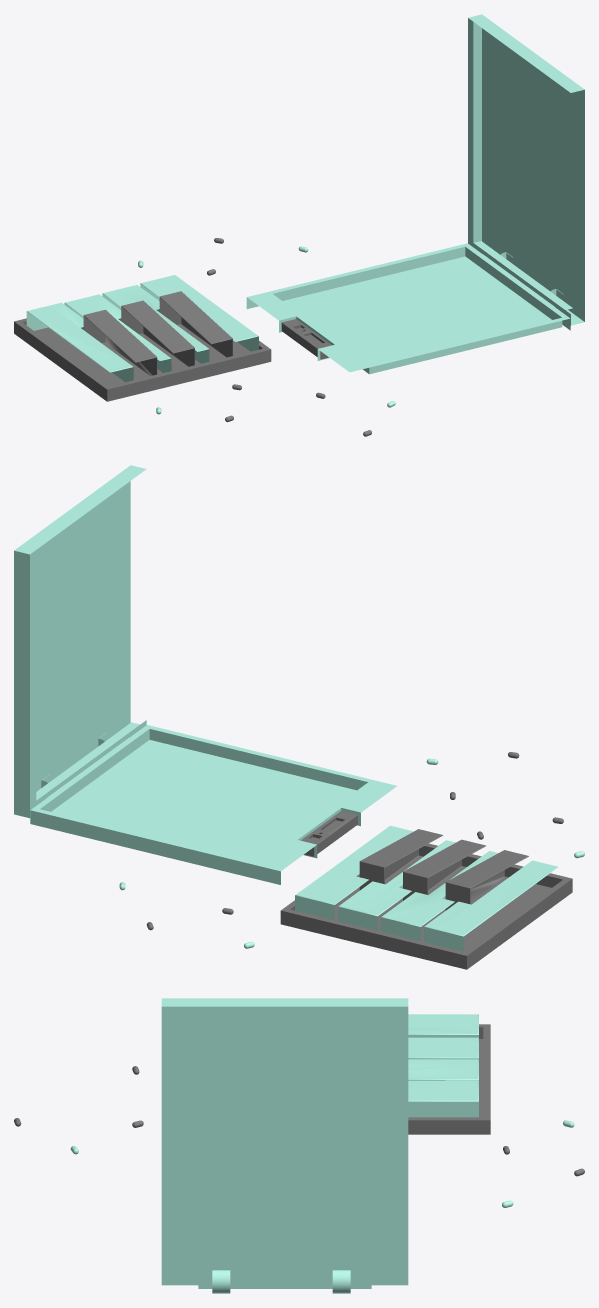
Rendered from silent_waves.fbx.
3 views of the same model, one above another, from view 1: azimuth 30°, elevation 25°; view 2: azimuth 150°, elevation 25°; view 3: azimuth 270°, elevation 25° (orthographic). The views are drawn at different scales.
Visible parts, largest first — view 1: Plane_1, Plane, Plane_2, Cloner, Cube_2, Cube_1, Cube, Cloner_1, Cloner_2, Cloner_3, Cube_1_2; view 2: Plane_1, Plane, Plane_2, Cloner, Cloner_1, Cloner_2, Cloner_3, Cube, Cube_1, Cube_2, Cube_1_2; view 3: Plane_1, Cloner_1, Plane_2, Cloner, Cloner_3, Cloner_2, Cloner_2_2, Plane.
Part boxes in pixels (left/top/right/bottom): Plane_1: left=468, top=14, right=584, bottom=325; Plane: left=246, top=243, right=570, bottom=374; Plane_2: left=14, top=300, right=271, bottom=401; Cloner: left=26, top=302, right=133, bottom=382; Cube_2: left=83, top=309, right=157, bottom=375; Cube_1: left=121, top=300, right=194, bottom=366; Cube: left=159, top=291, right=232, bottom=357; Cloner_1: left=140, top=275, right=258, bottom=351; Cloner_2: left=102, top=285, right=209, bottom=363; Cloner_3: left=64, top=294, right=171, bottom=372; Cube_1_2: left=281, top=319, right=331, bottom=359; Plane_1: left=14, top=465, right=146, bottom=818; Plane: left=30, top=725, right=396, bottom=884; Plane_2: left=280, top=843, right=572, bottom=969; Cloner: left=424, top=860, right=558, bottom=951; Cloner_1: left=295, top=825, right=413, bottom=920; Cloner_2: left=338, top=840, right=455, bottom=930; Cloner_3: left=381, top=851, right=498, bottom=941; Cube: left=359, top=829, right=442, bottom=890; Cube_1: left=403, top=839, right=485, bottom=900; Cube_2: left=445, top=850, right=528, bottom=910; Cube_1_2: left=301, top=810, right=357, bottom=856; Plane_1: left=161, top=998, right=408, bottom=1285; Cloner_1: left=408, top=1080, right=478, bottom=1117; Plane_2: left=408, top=1024, right=490, bottom=1134; Cloner: left=408, top=1014, right=478, bottom=1037; Cloner_3: left=408, top=1037, right=478, bottom=1059; Cloner_2: left=408, top=1059, right=478, bottom=1080; Cloner_2_2: left=212, top=1270, right=350, bottom=1293; Plane: left=198, top=1285, right=371, bottom=1288.
Size of the model in its own units: 991 by 513 by 926.
3 materials, 2 textured.
